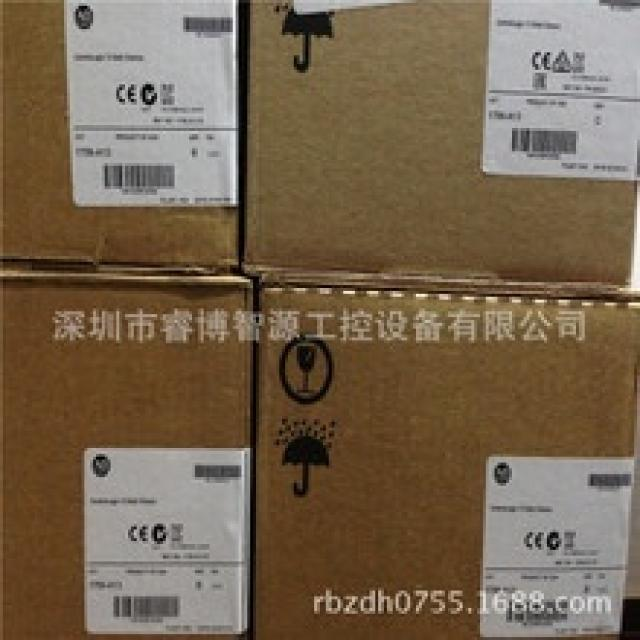box: (253, 285, 640, 640), (244, 0, 640, 303), (0, 265, 256, 637)
